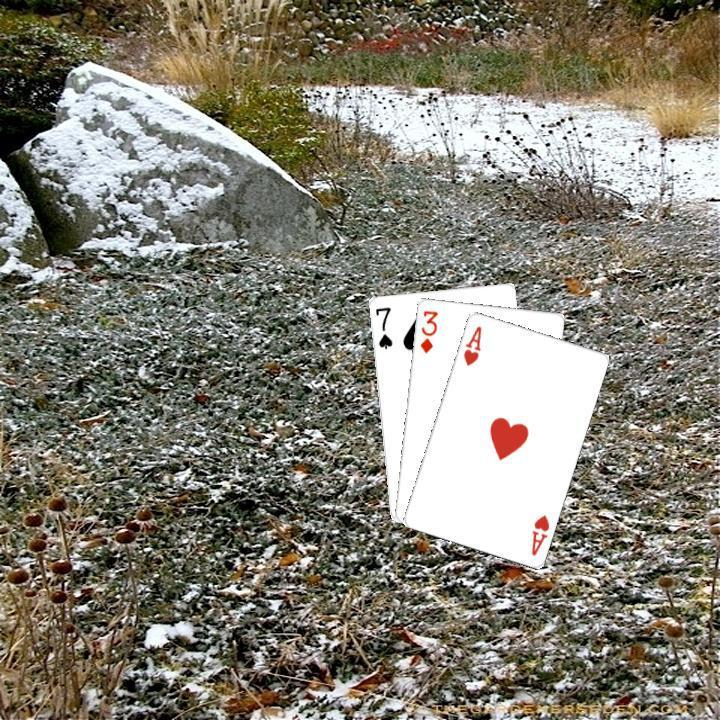3: (416, 306, 440, 355)
7: (370, 302, 394, 351)
A: (459, 321, 483, 368), (527, 510, 551, 557)
